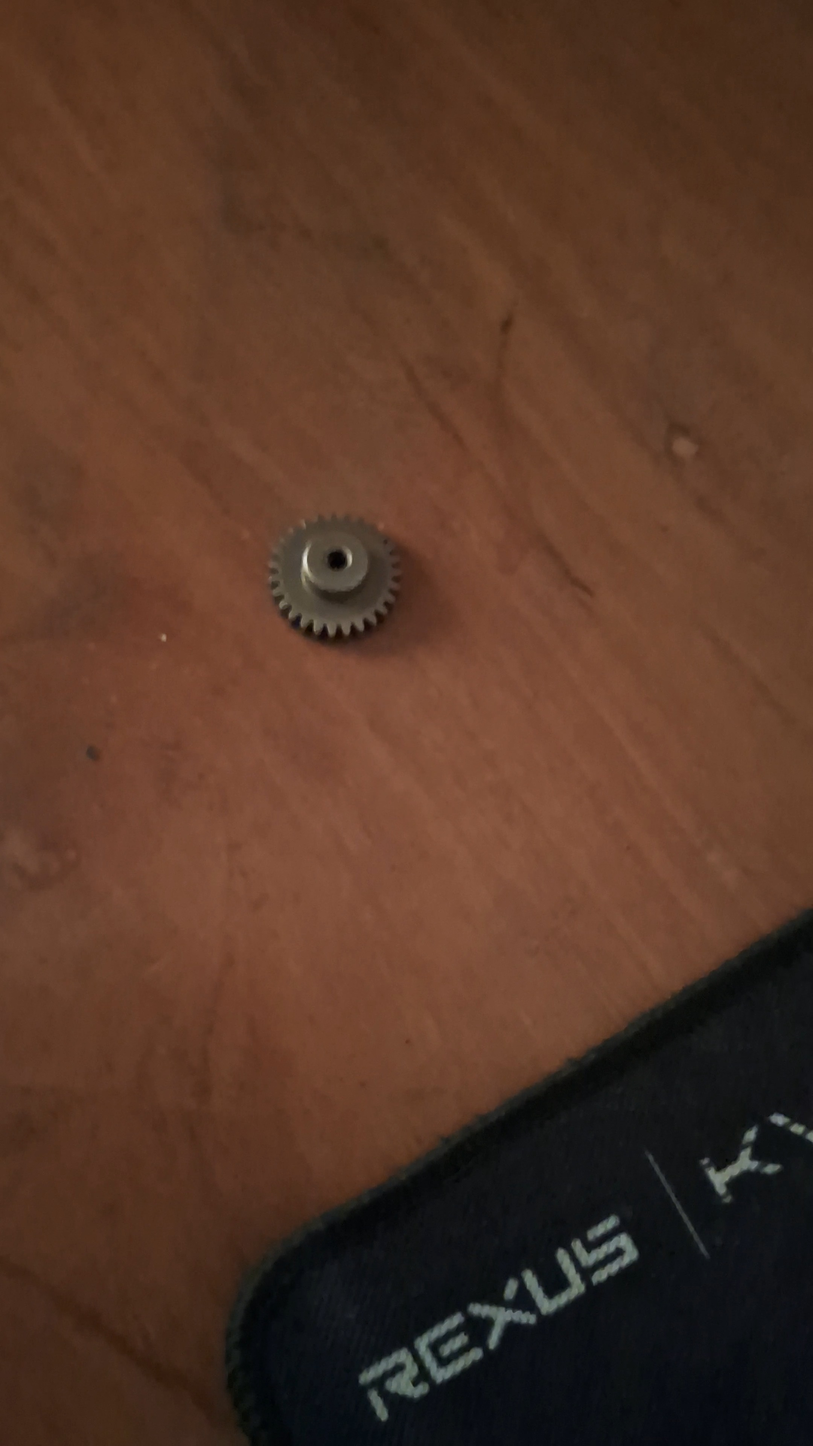spur gear: (269, 516, 400, 638)
